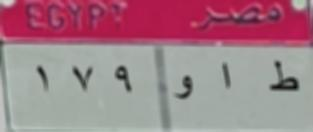1: (32, 61, 56, 100)
7: (68, 63, 97, 94)
9: (113, 59, 137, 100)
Taa: (267, 55, 302, 98)
alif: (213, 61, 235, 98)
waw: (169, 70, 200, 105)
